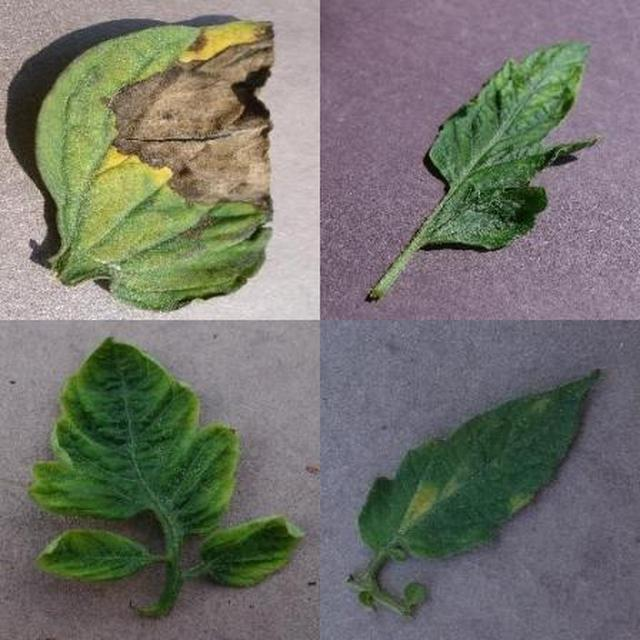Late Blight Leaf: (135, 78, 640, 640)
